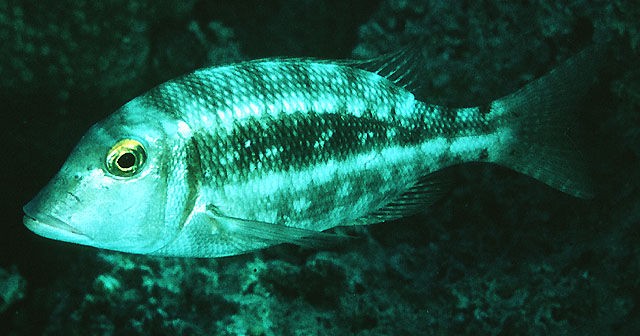fish: (22, 56, 594, 258)
